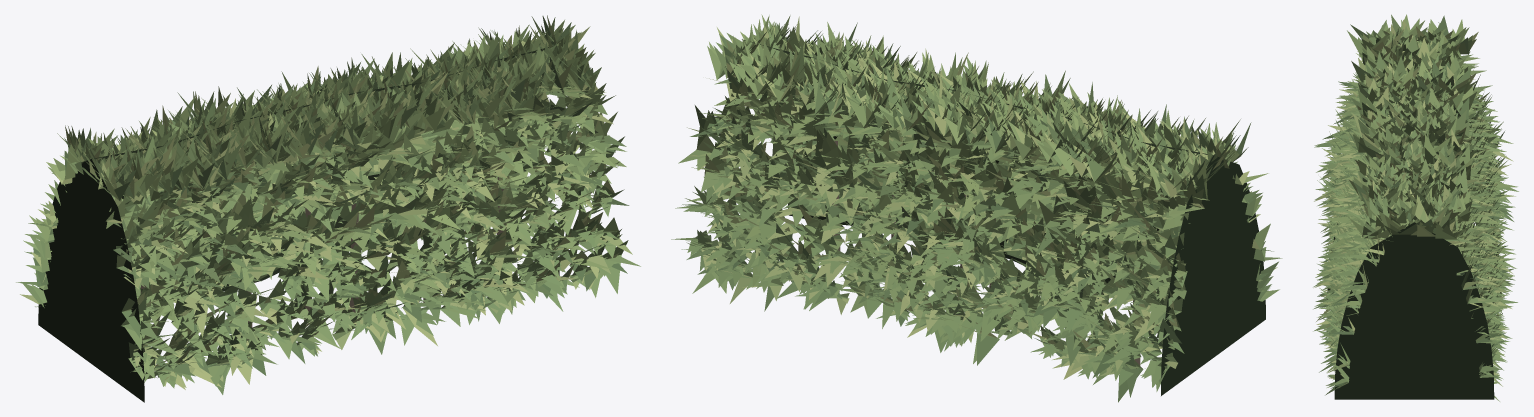
The model's file is hedge_c.glb.
The picture shows the model from 3 angles, left to right: view 1: azimuth 30°, elevation 25°; view 2: azimuth 150°, elevation 25°; view 3: azimuth 270°, elevation 25°; orthographic projection. The views are drawn at different scales.
Parts seen in each view (by area): view 1: hedge_c; view 2: hedge_c; view 3: hedge_c.
Part boxes in pixels (<box>): hedge_c: <box>16,15,640,402</box>; hedge_c: <box>671,14,1282,402</box>; hedge_c: <box>1313,14,1518,401</box>.
Size of the model in its own units: 2.64 by 1.15 by 1.09.
